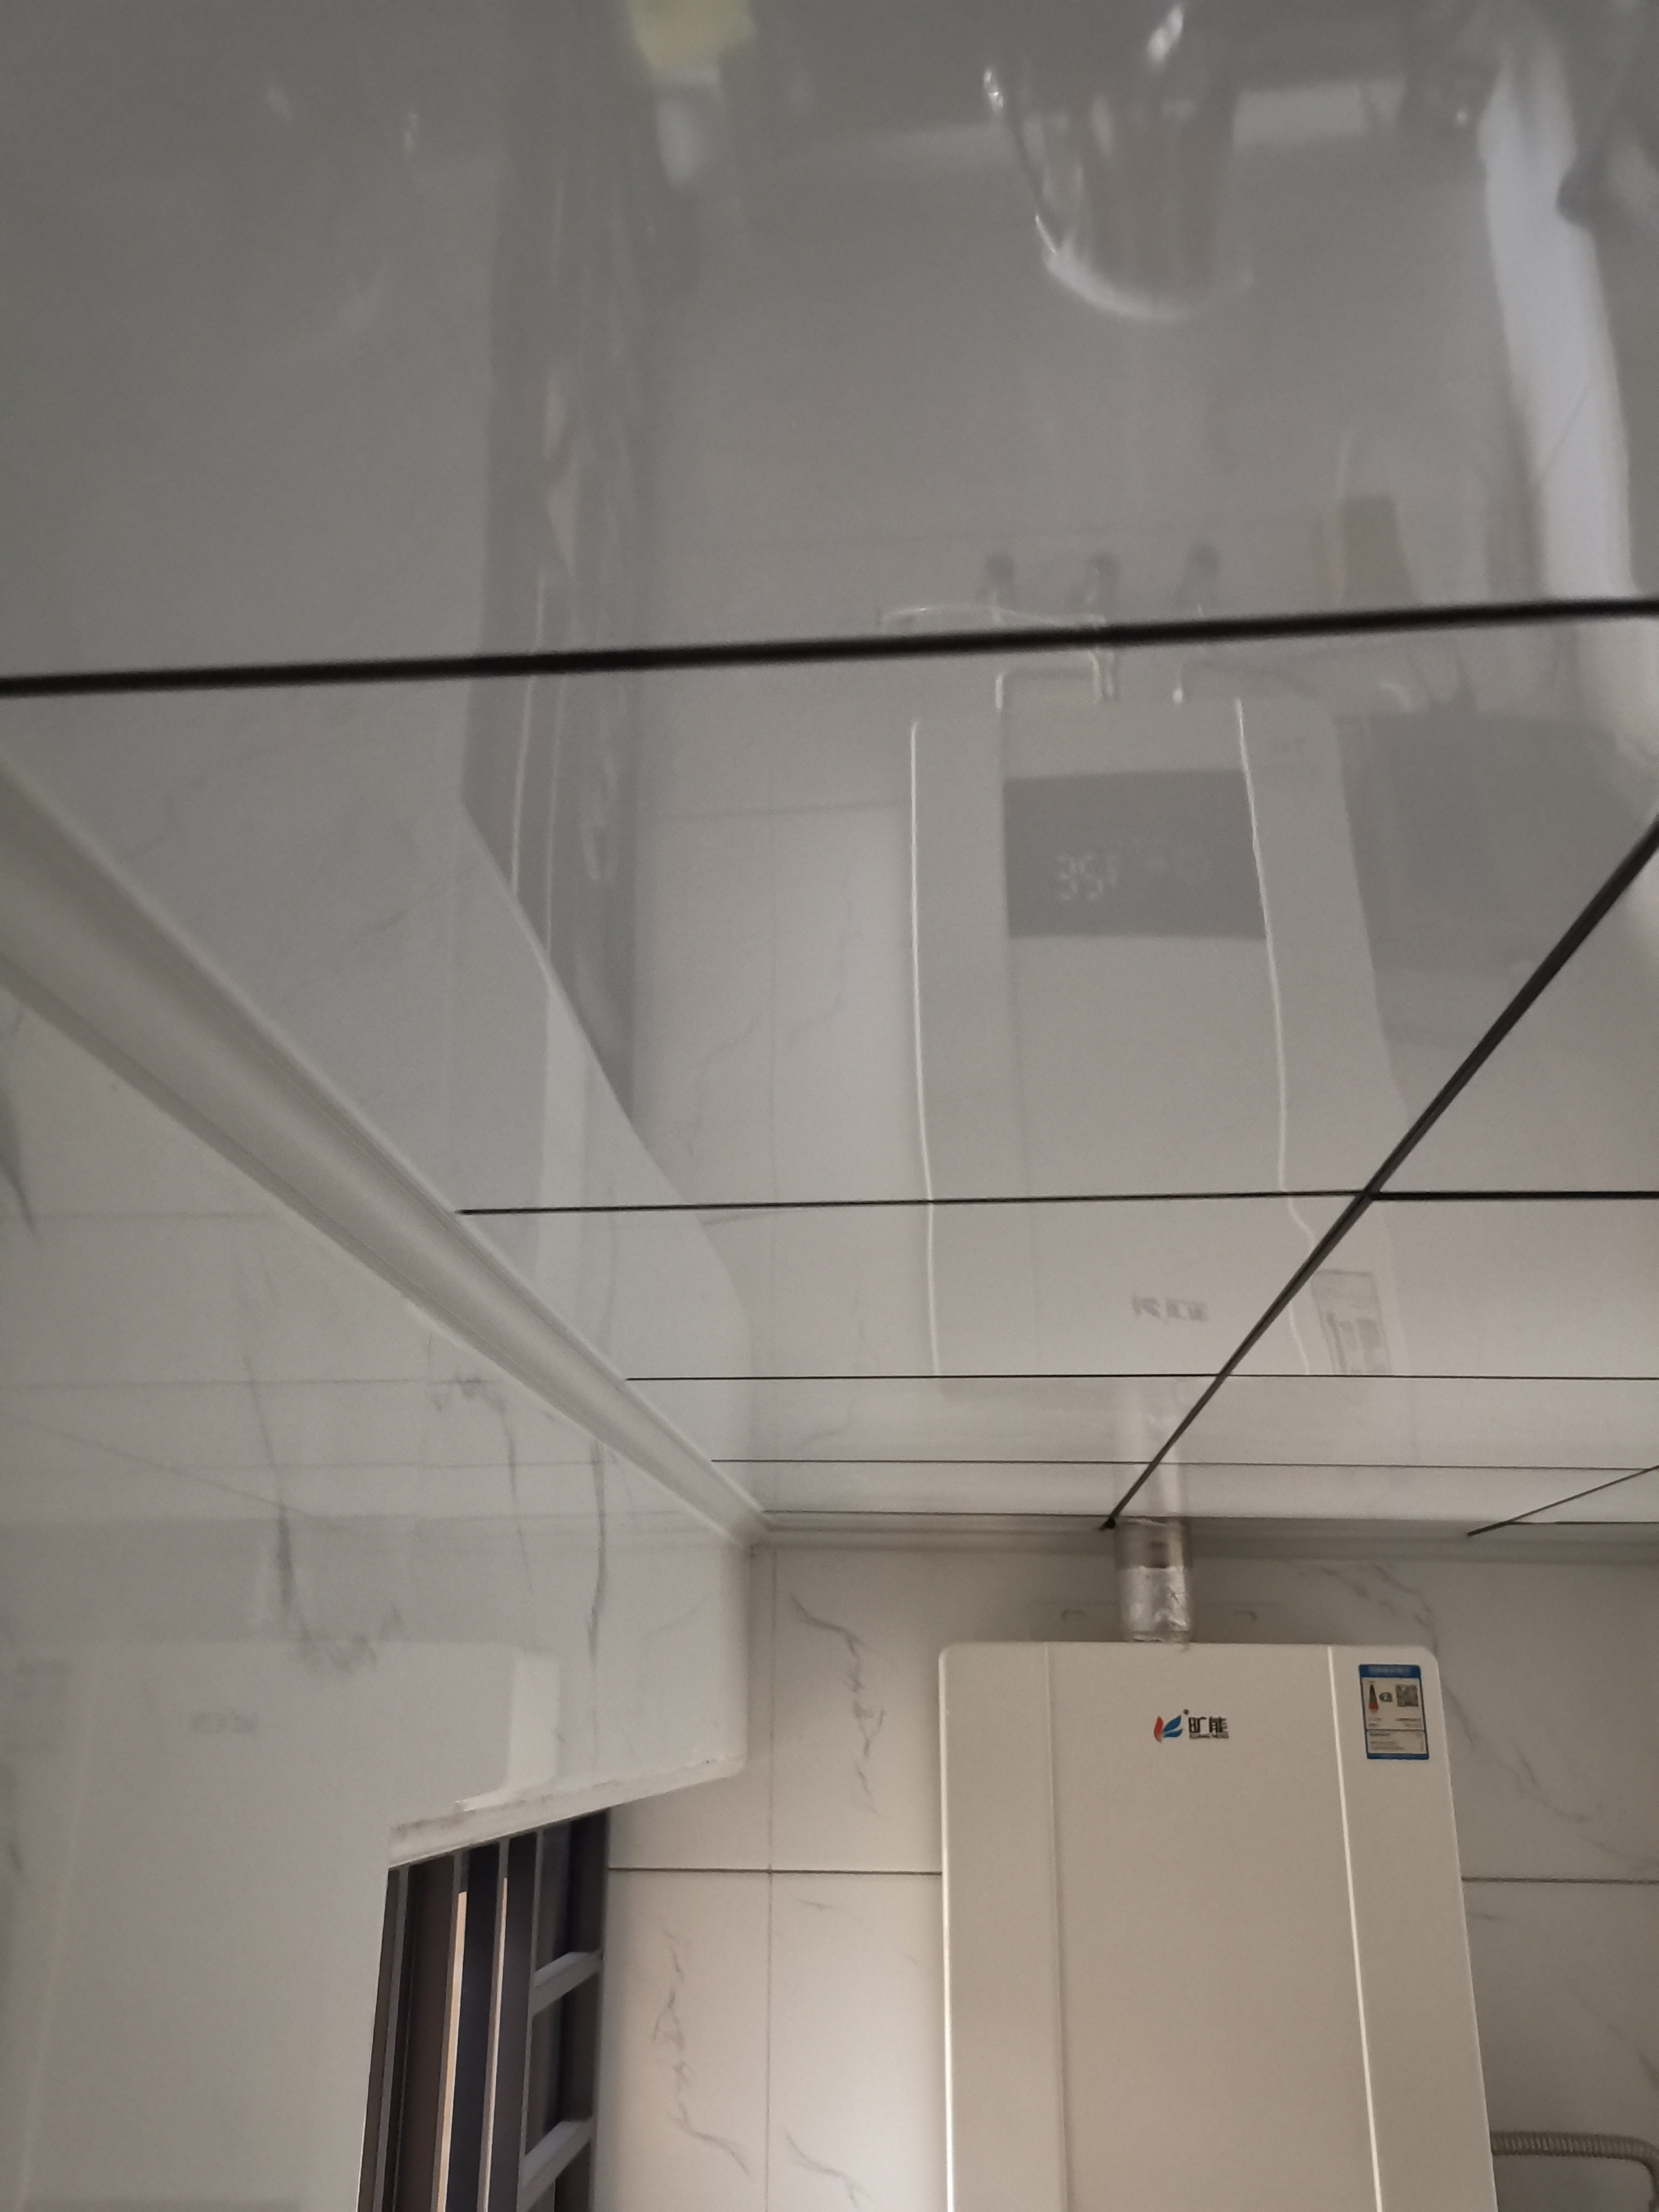loudou: (1131, 1698, 1251, 1749)
